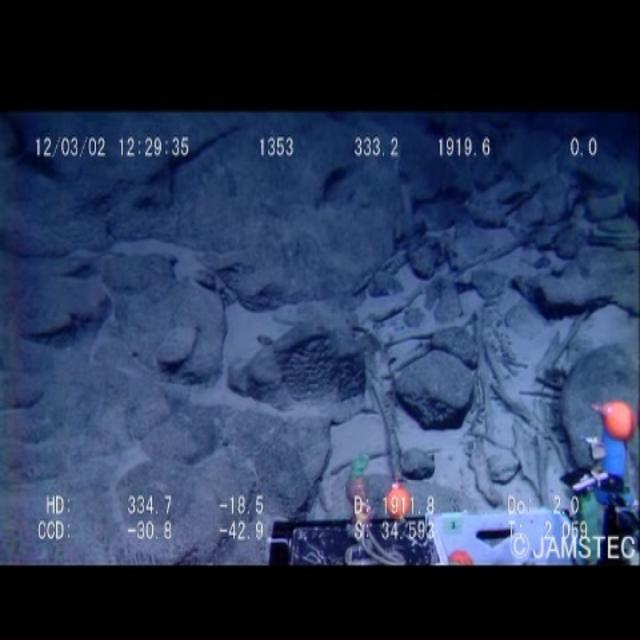Wood: (476, 274, 573, 508), (342, 295, 415, 489)
